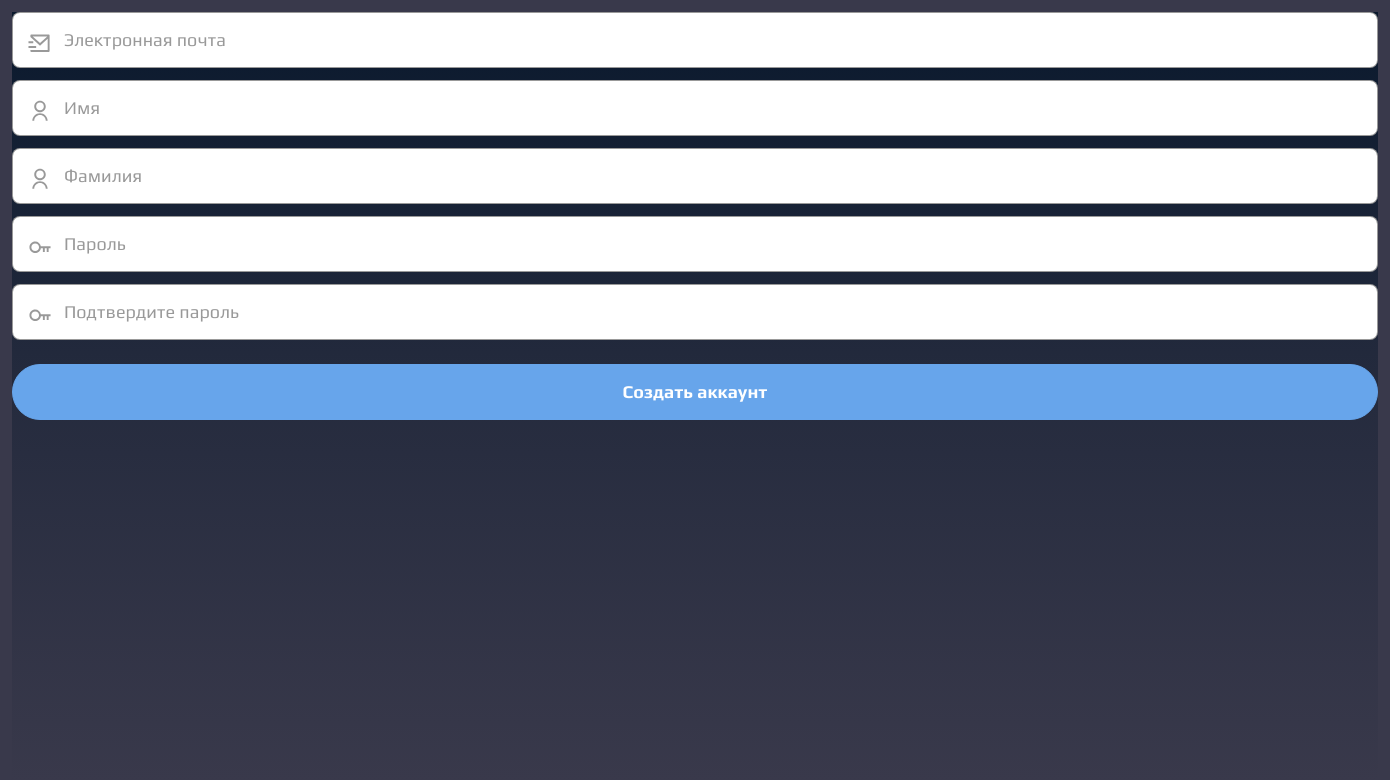
RegisterForm › Отображение ошибки при вводе пустого поля surname
Type "user@mail.ru" into the field with placeholder "Электронная почта" at [695, 40], box top-left (12, 12), bottom-right (1378, 68)
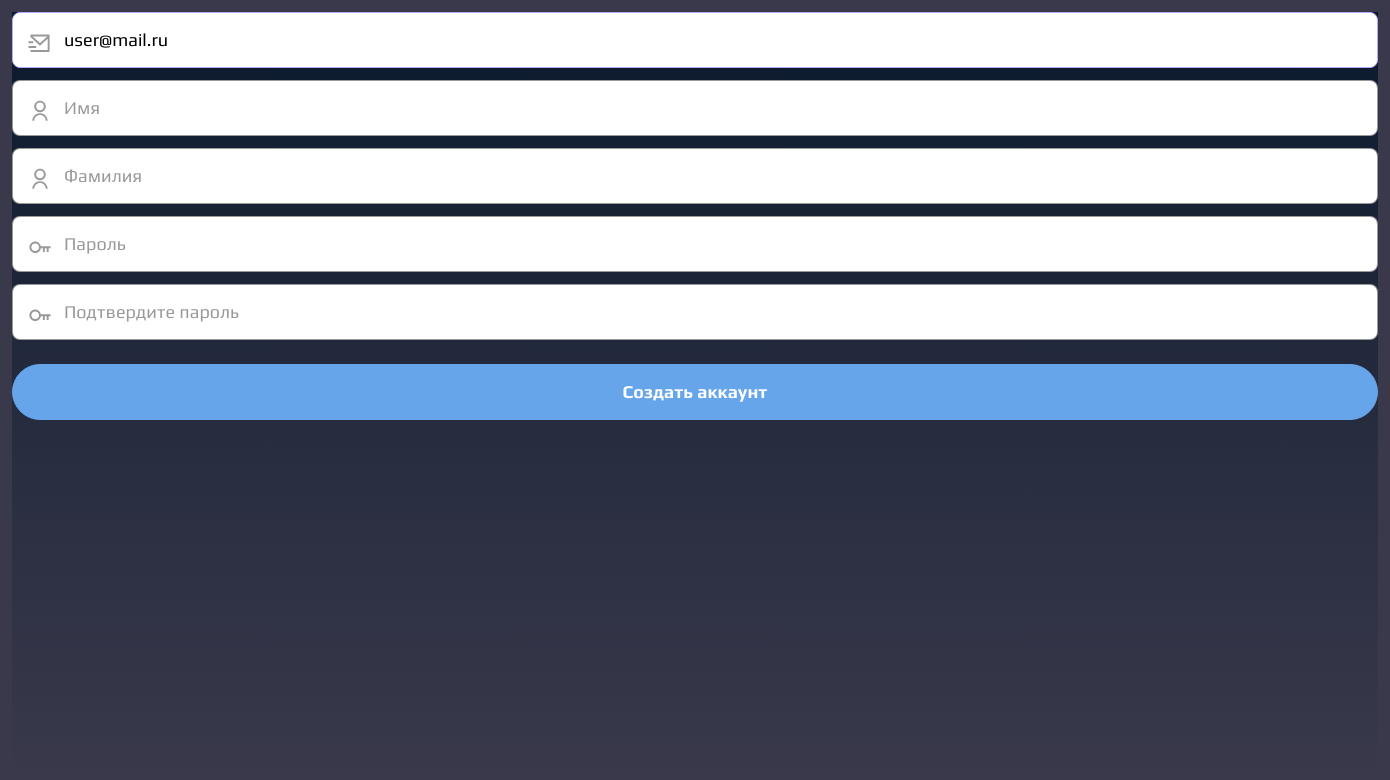
Type "name" into the field with placeholder "Имя" at [695, 108], box top-left (12, 80), bottom-right (1378, 136)
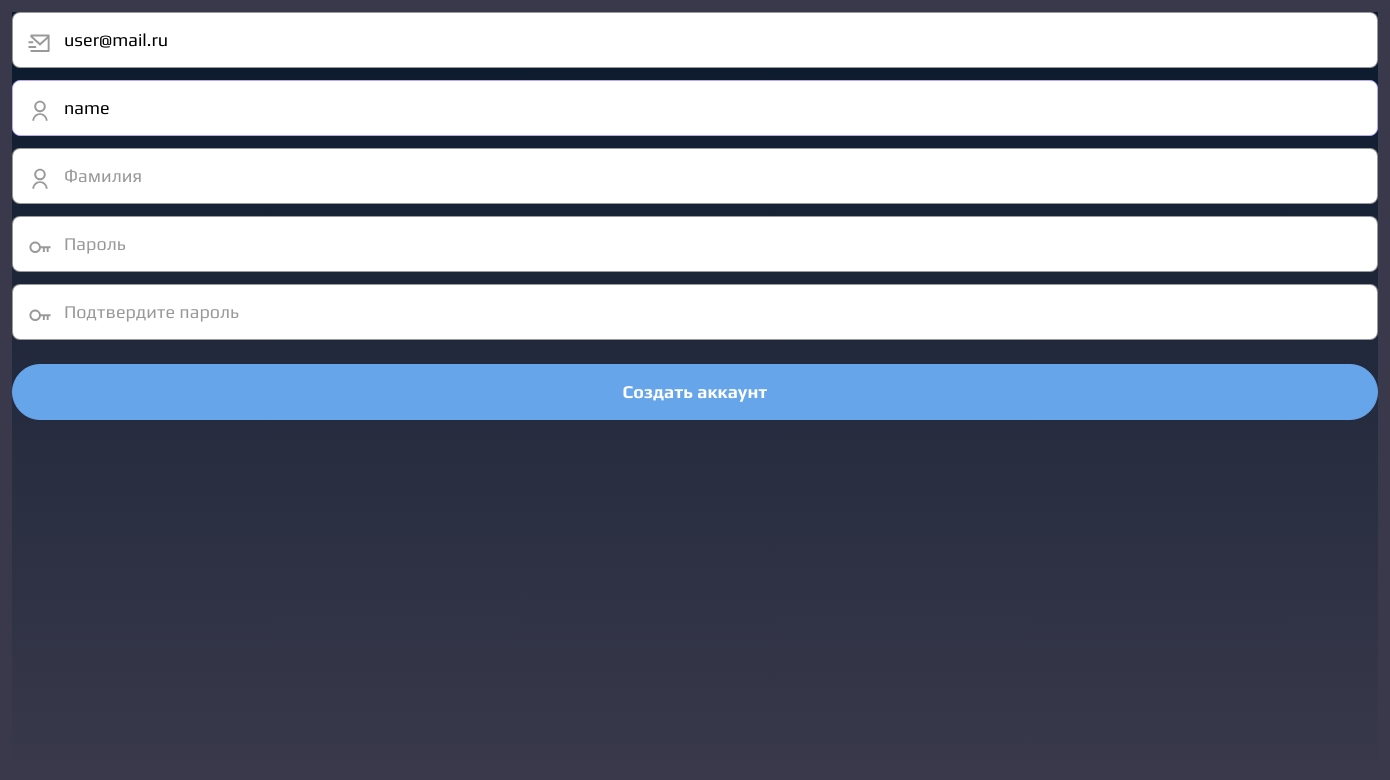
Clear the field with placeholder "Фамилия" at [695, 176], box top-left (12, 148), bottom-right (1378, 204)
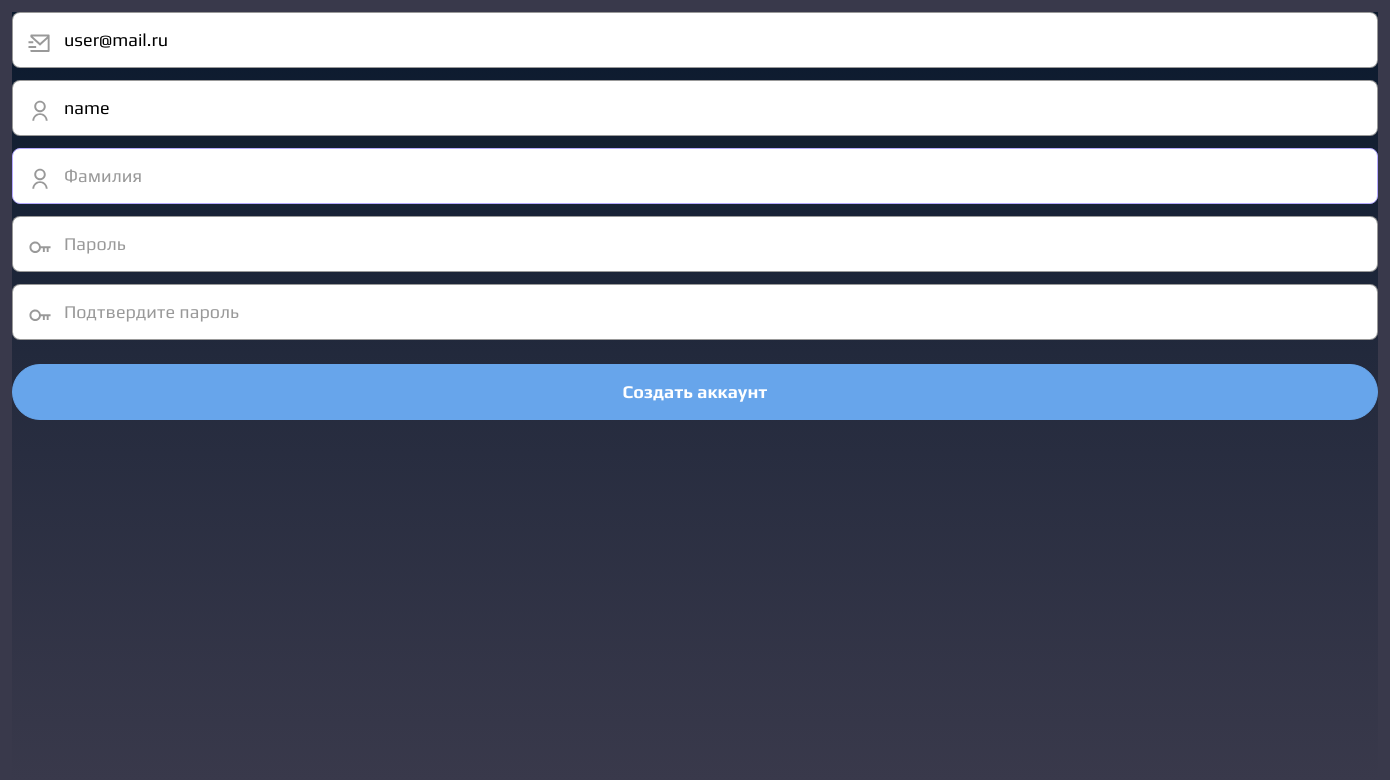
Type "validPassword" into the password field with placeholder "Пароль" at [695, 244], box top-left (12, 216), bottom-right (1378, 272)
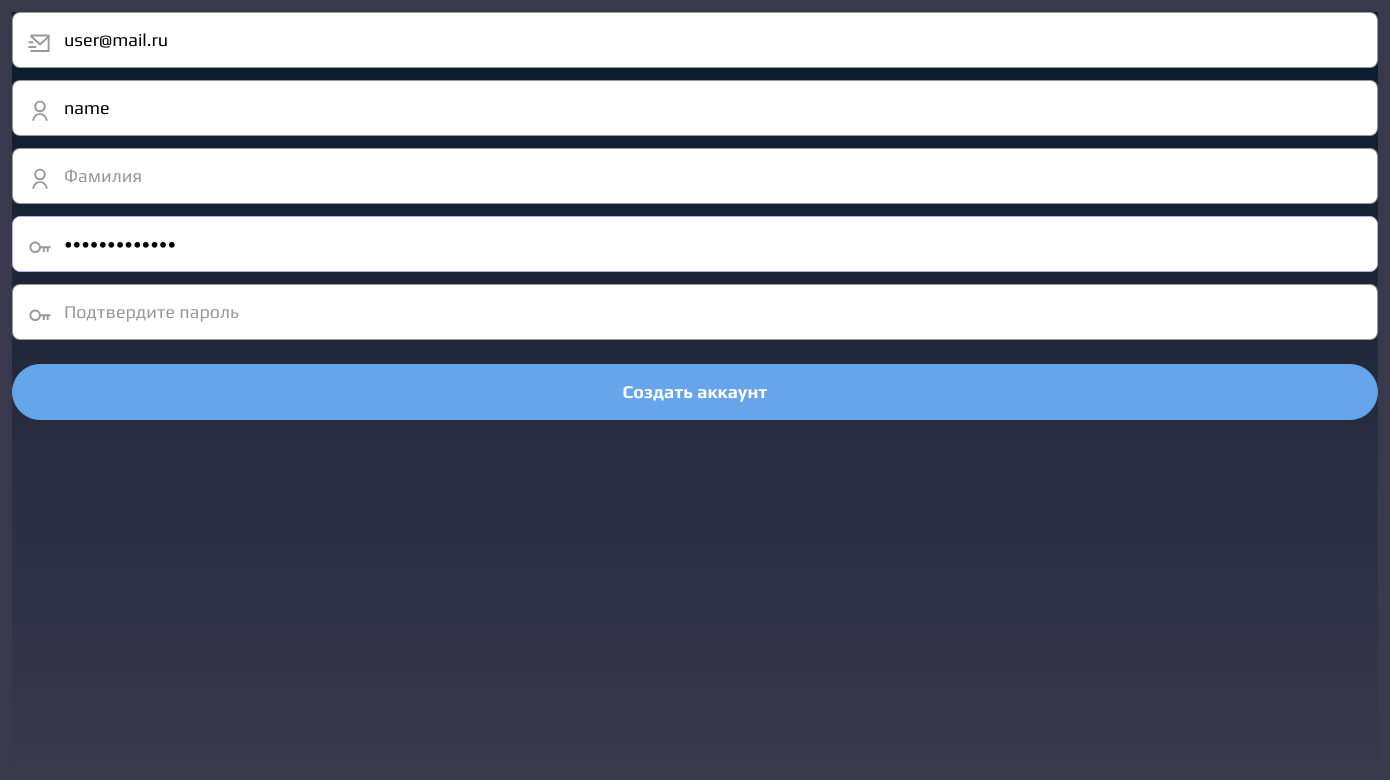
Type "validPassword" into the password field with placeholder "Подтвердите пароль" at [695, 312], box top-left (12, 284), bottom-right (1378, 340)
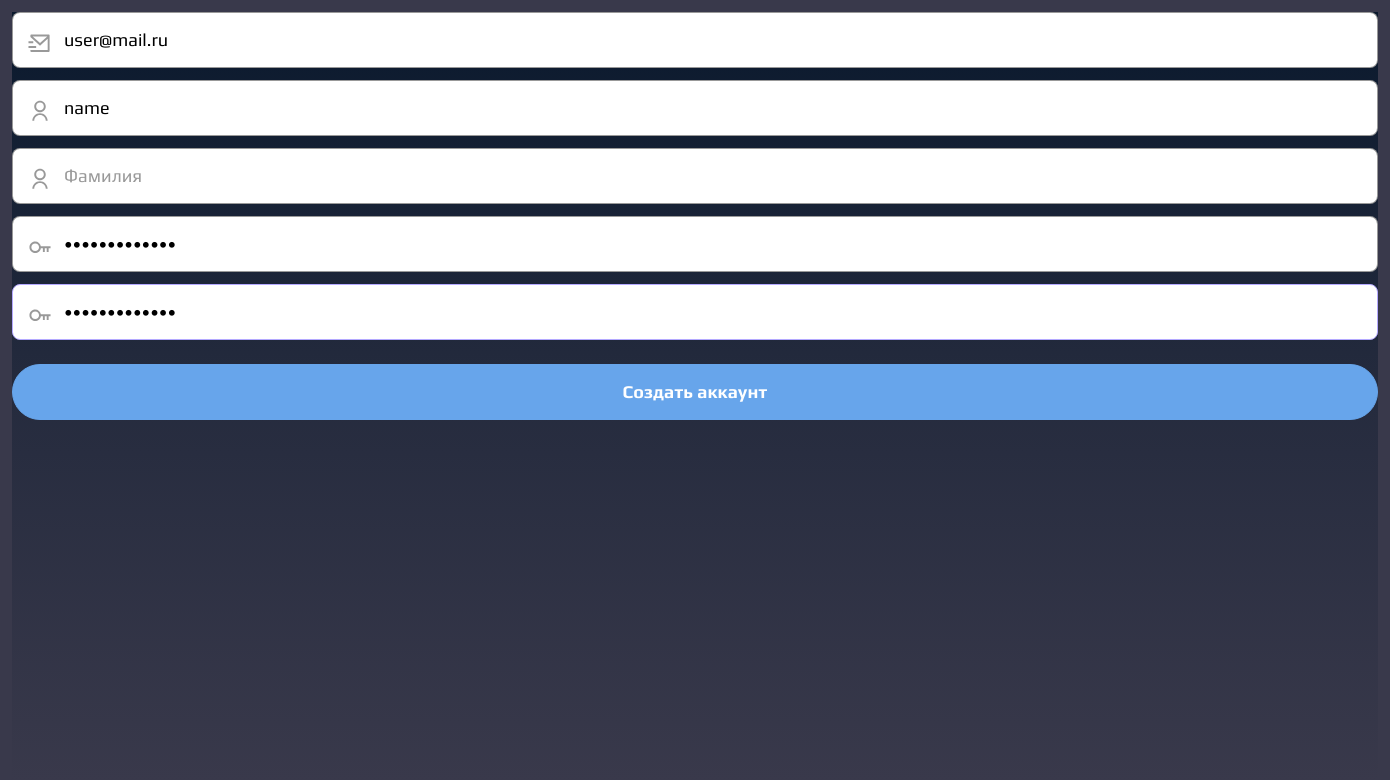
Click the button "Создать аккаунт" at [695, 392], box top-left (12, 364), bottom-right (1378, 420)
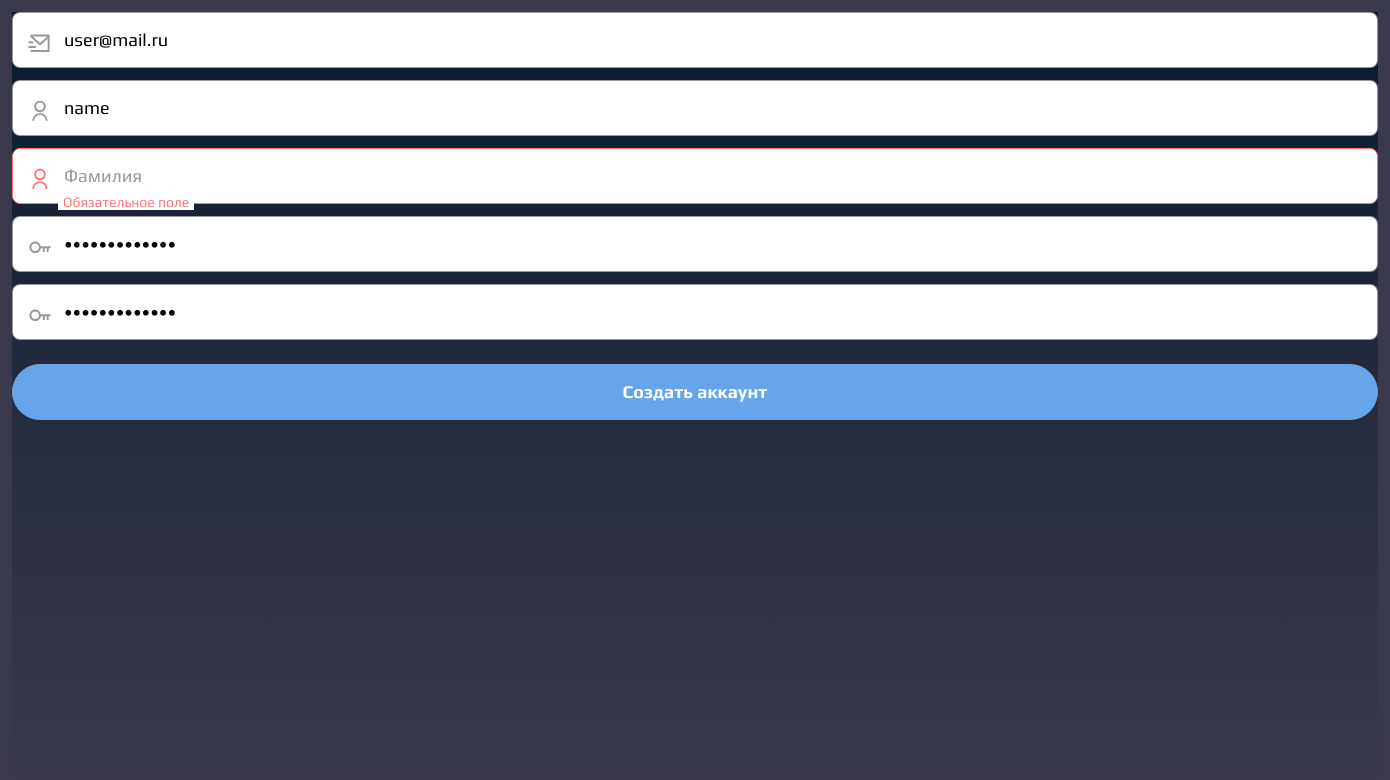
Now the text "Обязательное поле" is shown, box top-left (58, 194), bottom-right (194, 210)
